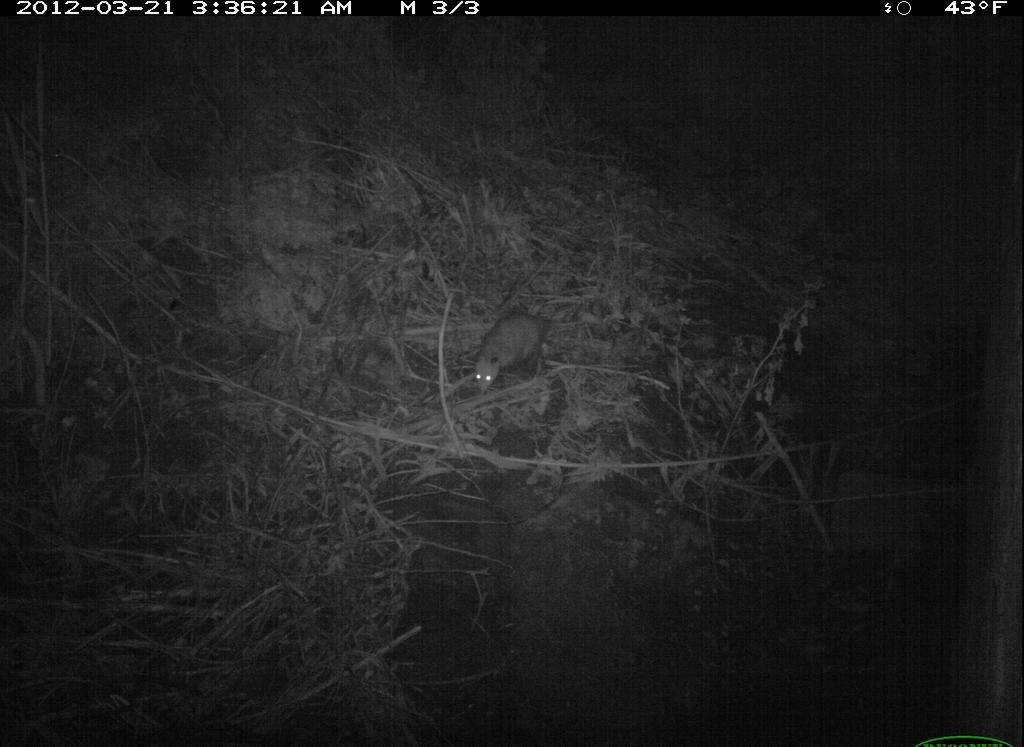opossum: (472, 304, 552, 400)
